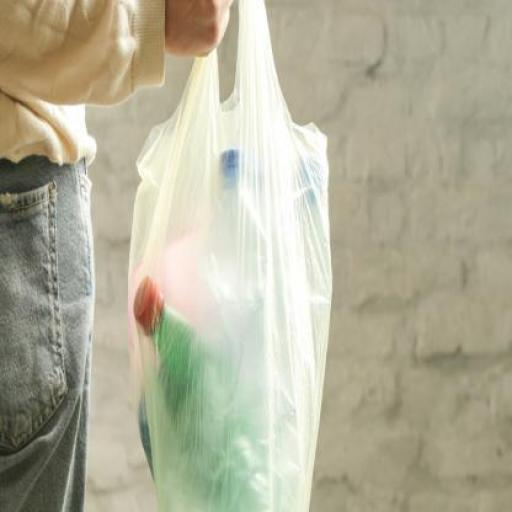plastic bag: (123, 0, 336, 511)
